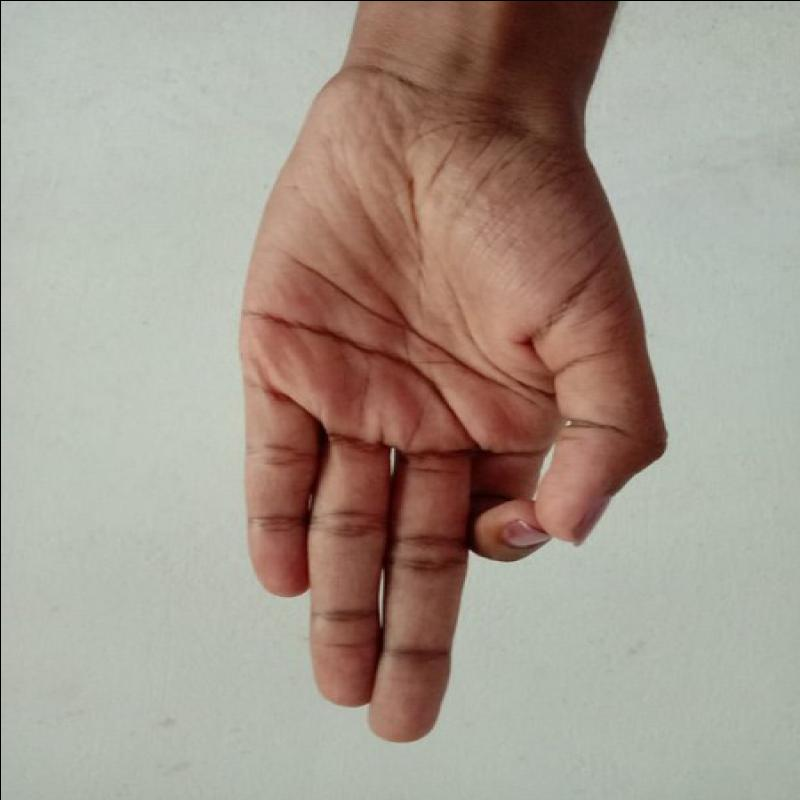Mudraakhyam: (206, 68, 680, 756)
